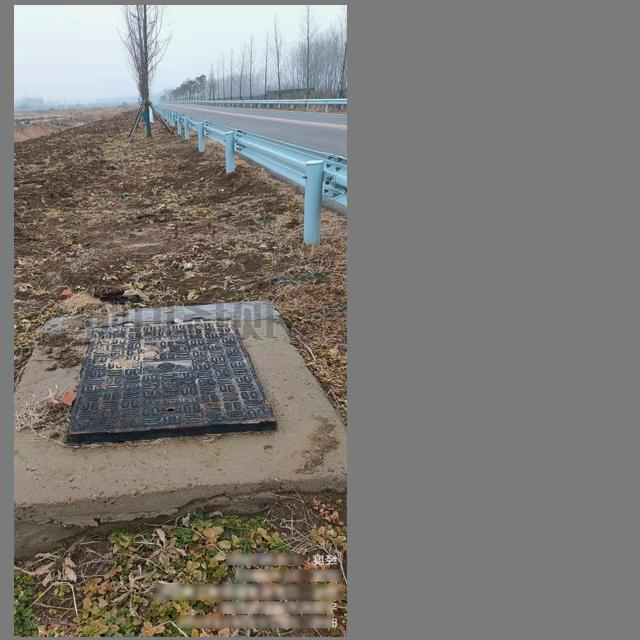good: (60, 315, 280, 443)
